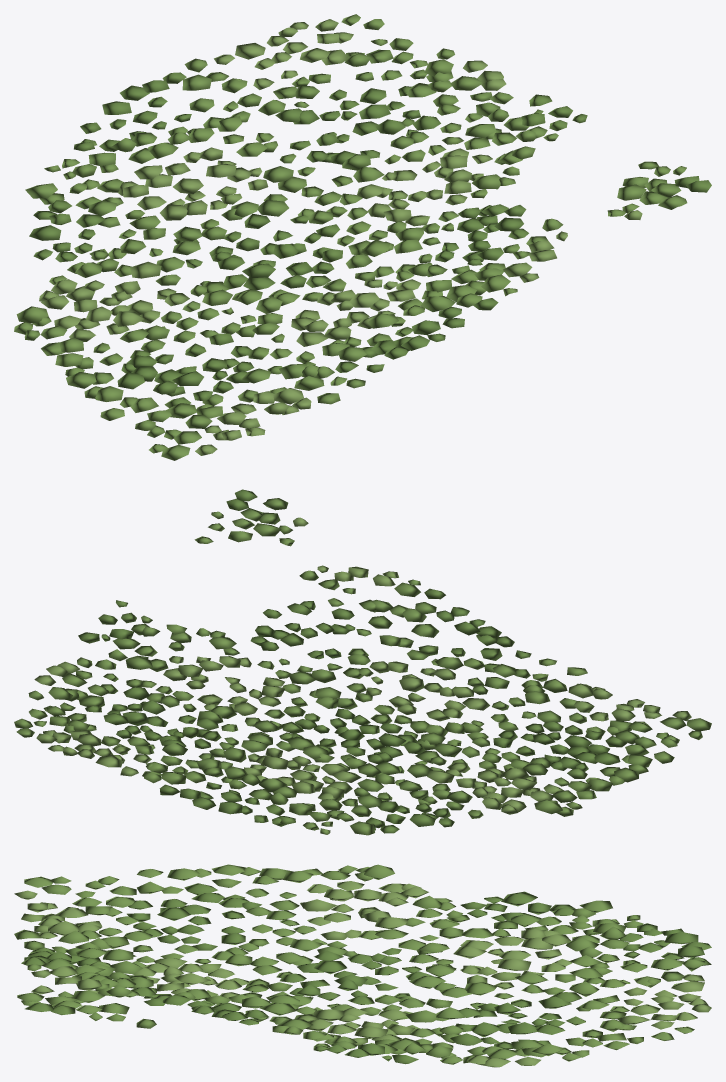
File: canopy-1-5--6.glb
3 renders of one model, top to bottom at view 1: azimuth 30°, elevation 25°; view 2: azimuth 150°, elevation 25°; view 3: azimuth 270°, elevation 25°, orthographic. The views are drawn at different scales.
Bounding box in the file's own units: 515 × 128 × 512.
1 material, 1 textured.
